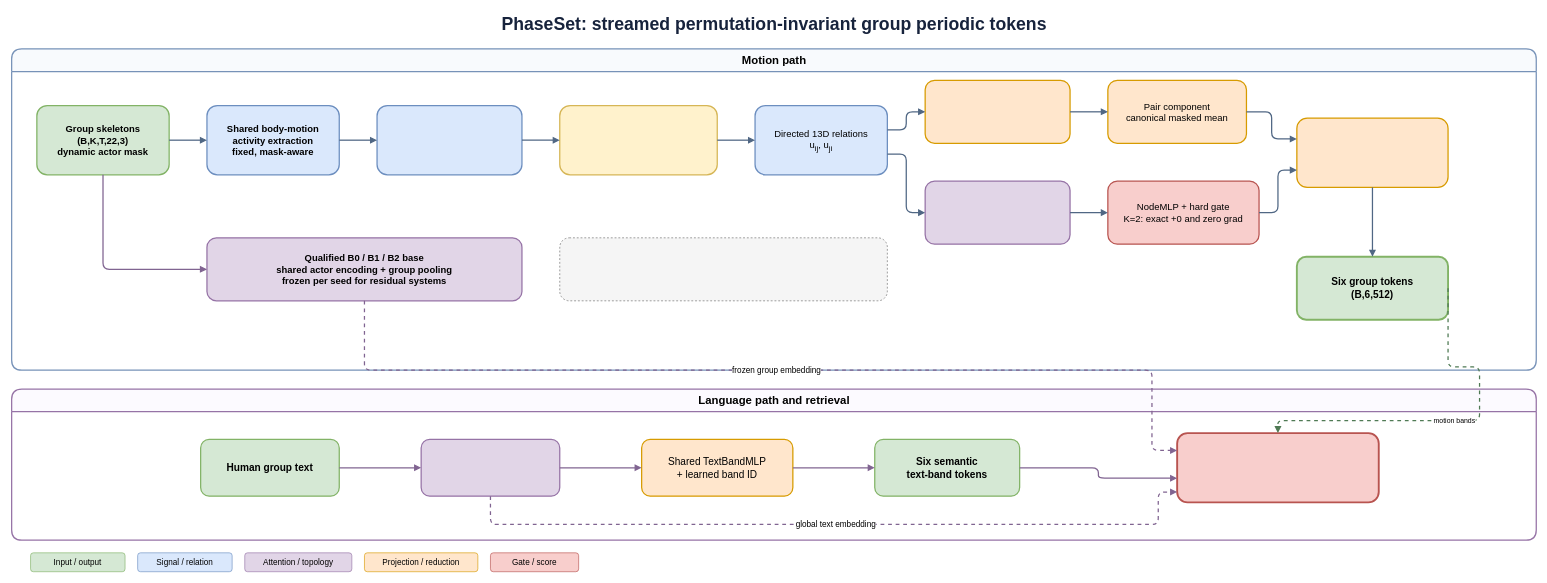
Image size: 1547x583. Some labels were removed from this diagram. Here are the shapes that lost their labels. From the top down, the centre of each, then its label:
At pixel 997 111: "Symmetric PairMLP sum |diff| product".
At pixel 449 140: "Six fixed Morlet bands compute each actor once".
At pixel 638 140: "Stream all unordered pairs canonical 64-edge blocks no dense K×K tensor".
At pixel 1372 152: "CommonPostprocess pair + tanh(λ) · topology".
At pixel 997 212: "Incident moments Δmean, M2, coverage, missing".
At pixel 723 269: "Permutation invariant O(K²) streamed edges RESOURCE_LIMIT, never sampling".
At pixel 490 467: "Frozen CLIP text tower".
At pixel 1277 467: "Frozen base score + bounded mean band cosine".
